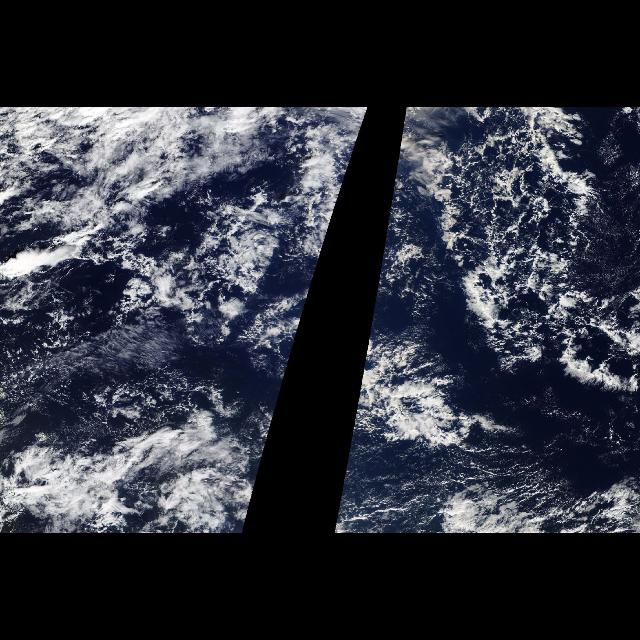Fish: (348, 327, 552, 455)
Gravel: (410, 110, 588, 378), (148, 195, 316, 357)
Sugar: (592, 112, 640, 288)
